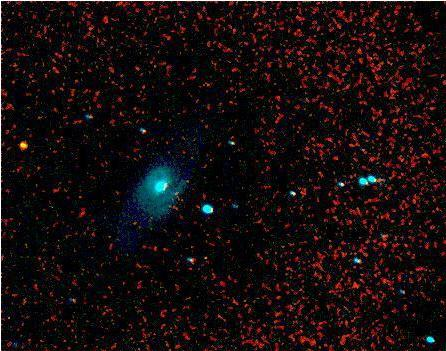star: (9, 130, 39, 160)
